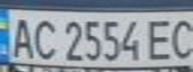2: (60, 16, 84, 62)
4: (121, 16, 145, 62)
5: (100, 17, 124, 62), (81, 17, 103, 62)
A: (6, 13, 39, 60)
C: (30, 16, 60, 61), (166, 15, 193, 61)
E: (142, 16, 178, 61)
